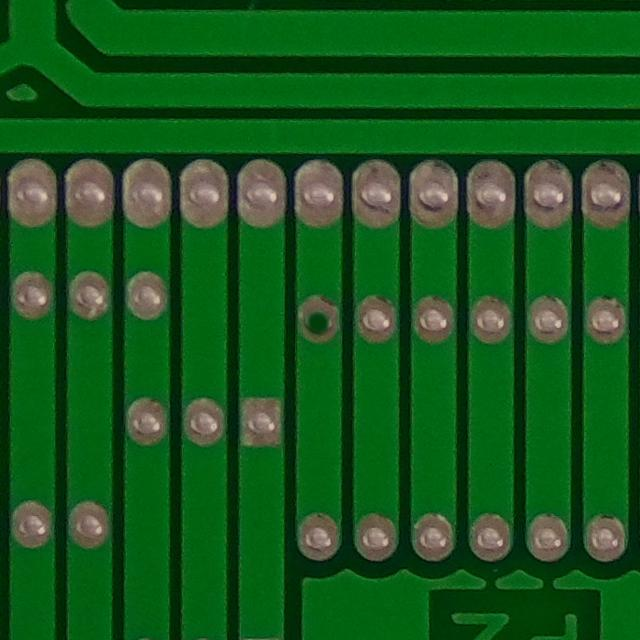missing_hole: (291, 287, 346, 353)
